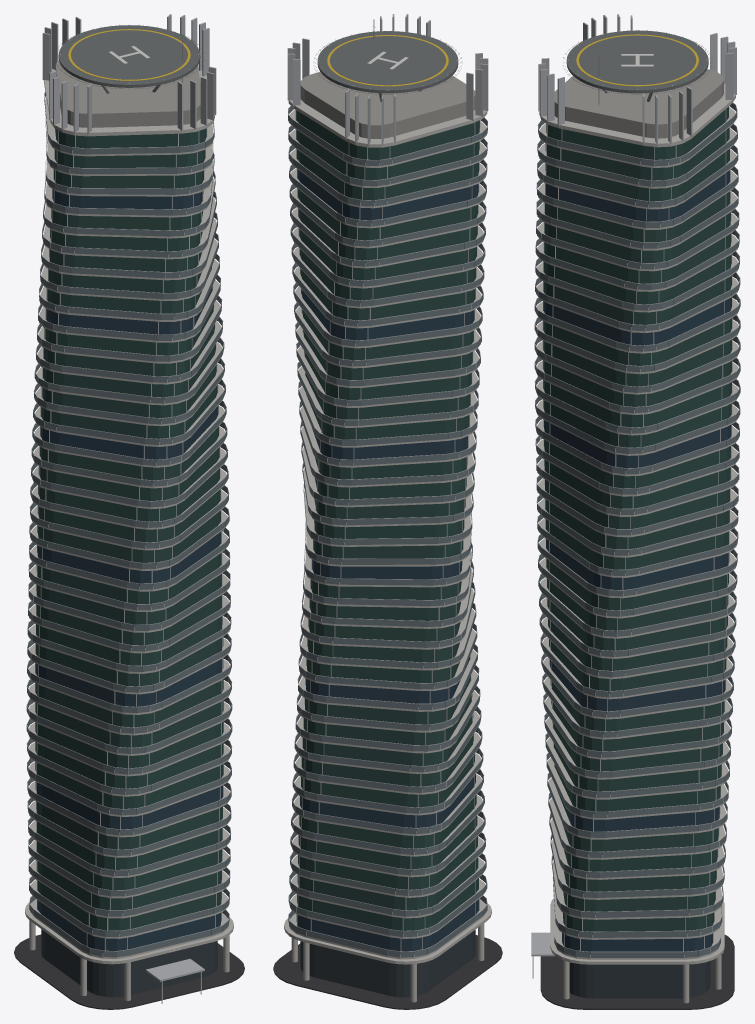
The model's file is gokdelen_burgu.glb.
The picture shows the model from 3 angles, left to right: view 1: azimuth 30°, elevation 25°; view 2: azimuth 150°, elevation 25°; view 3: azimuth 270°, elevation 25°; orthographic projection.
Visible parts, largest first — view 1: Gokdelen_Burgu; view 2: Gokdelen_Burgu; view 3: Gokdelen_Burgu.
Part boxes in pixels (x1,y1,x2,y2): Gokdelen_Burgu: [14, 14, 244, 1009]; Gokdelen_Burgu: [273, 14, 502, 1009]; Gokdelen_Burgu: [531, 14, 740, 1009].
Size of the model in its own units: 31.96 by 159 by 32.48.
